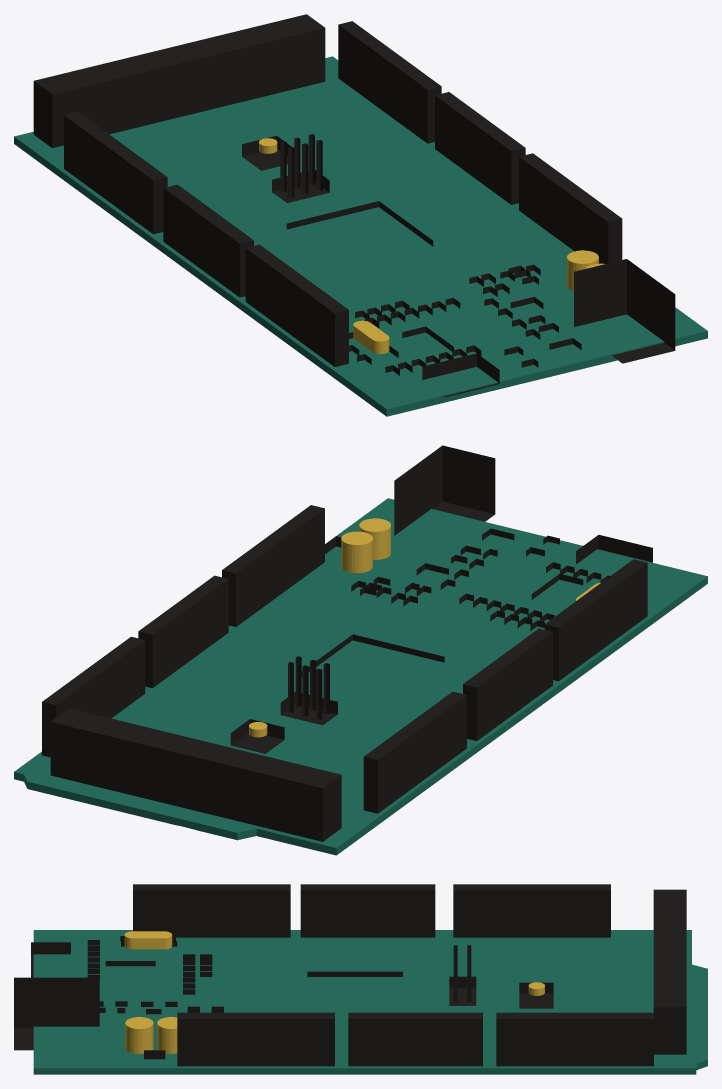
File: arduino-mega.glb
3 renders of one model, top to bottom at view 1: azimuth 30°, elevation 25°; view 2: azimuth 150°, elevation 25°; view 3: azimuth 270°, elevation 25°, orthographic. The views are drawn at different scales.
Parts seen in each view (by area): view 1: board, header, accent; view 2: header, board, accent; view 3: header, board, accent.
Part boxes in pixels (x1,y1,x2,y2): board: (14,56,707,416); header: (33,14,675,397); accent: (259,138,604,354); header: (42,445,652,841); board: (14,498,707,855); accent: (249,518,600,737); header: (14,884,686,1066); board: (33,930,707,1074); accent: (124,931,544,1053).
Bounding box in the file's own units: 1.04 × 0.1941 × 2.2.
